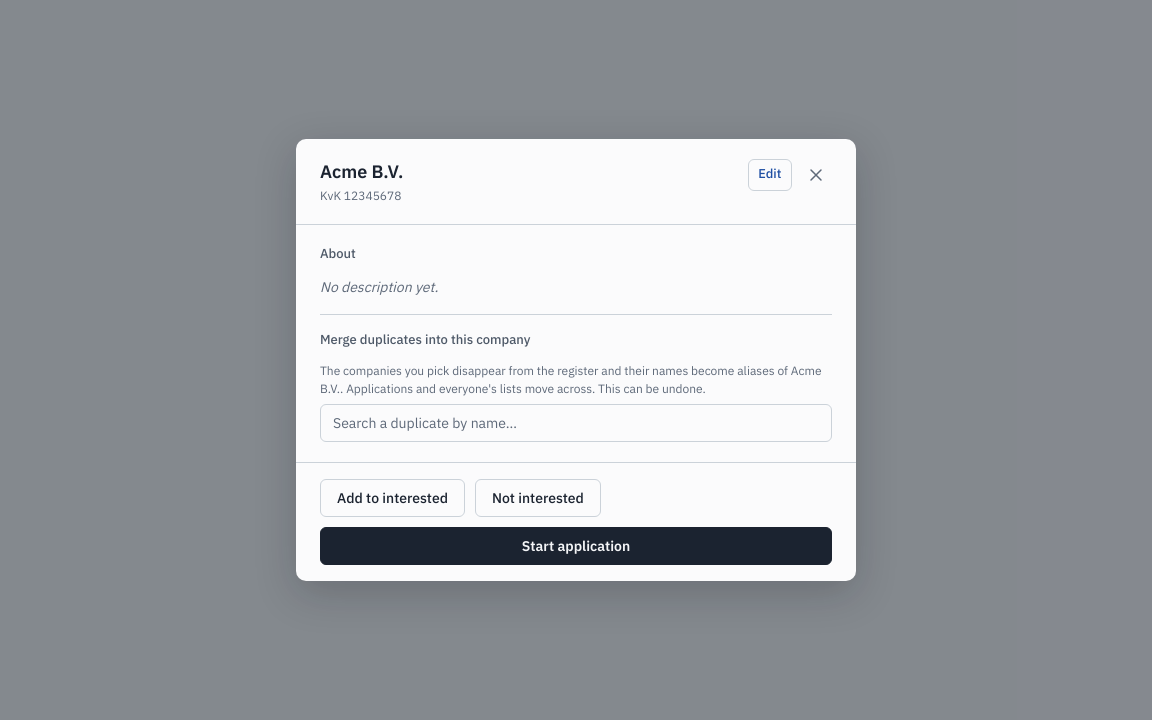
Test: CompanyDetailModal – admin merge › searching lists other companies but never this one
The width and height of the screenshot is (1152, 720).
Type "acme" into the field with id "ce-merge-search".
click(576, 423); type("acme")  # box [320,404,832,442]
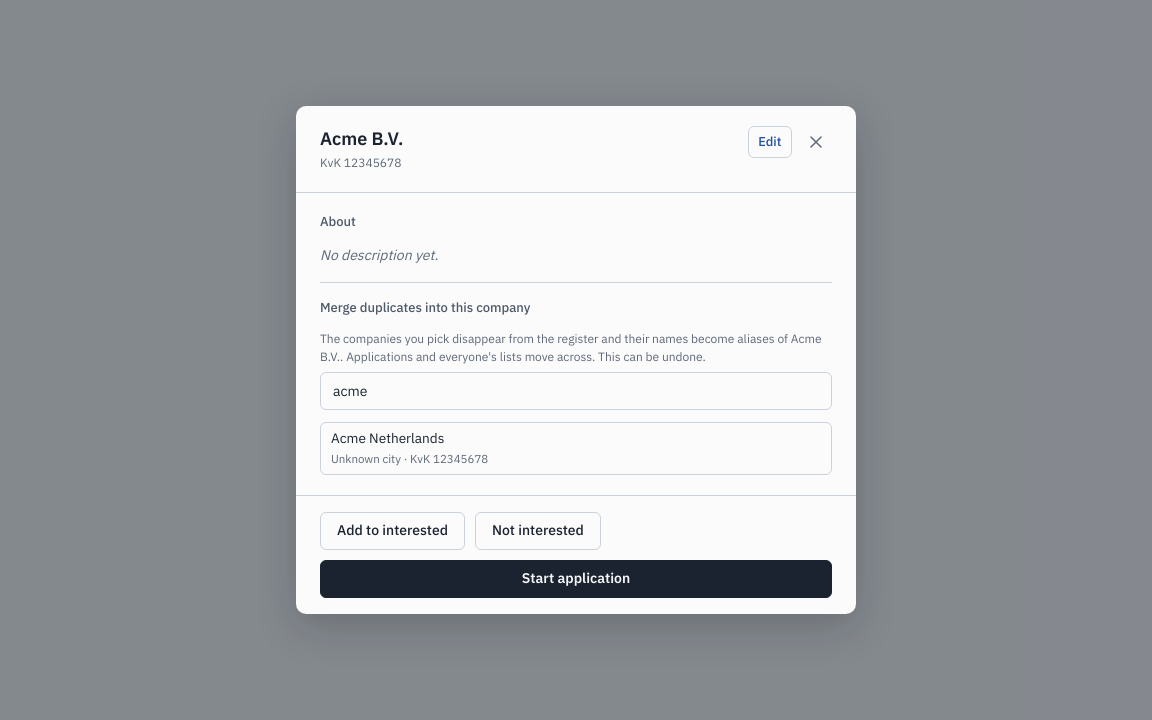
expect the elements with class "merge-result-name" read "Acme Netherlands", in this order: met, box [331,429,444,449]
